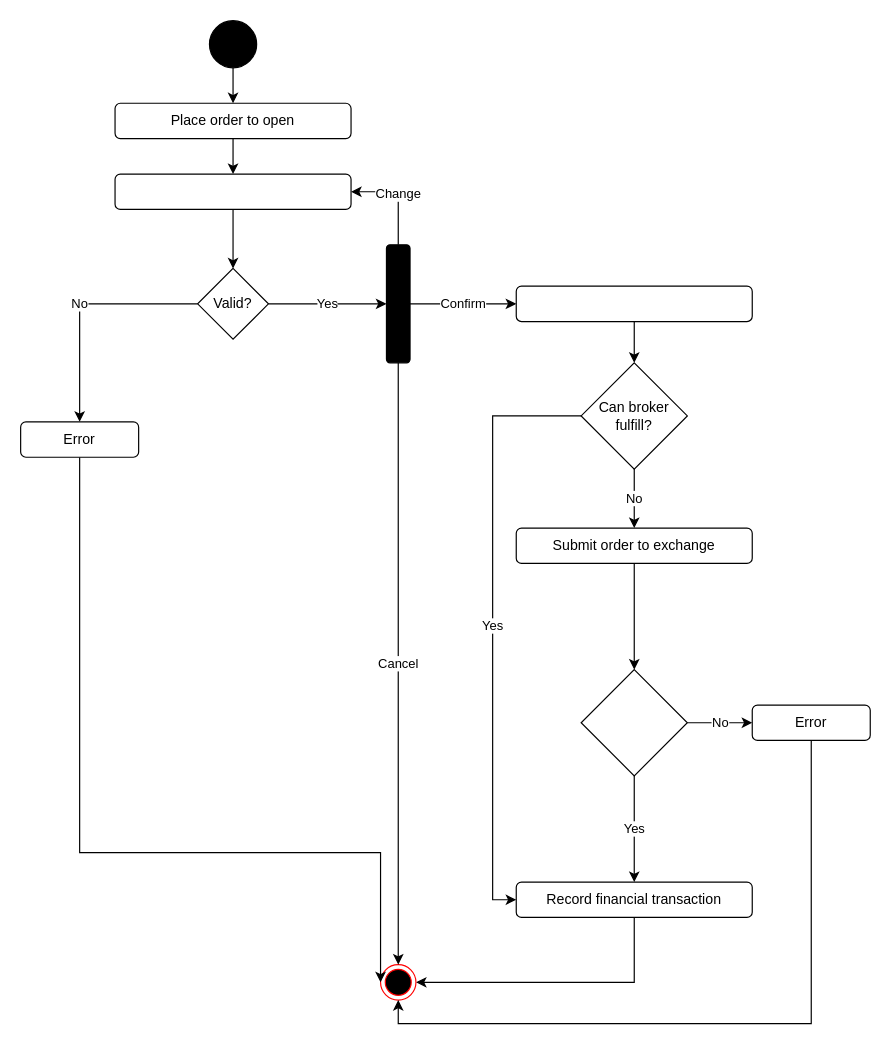
This 891x1054 diagram has some shape labels left out. Each missing label, with the centre of its shape:
Determine trade financial impact: [232,191]
Fulfillment Successful?: [633,722]
Submit order to broker: [633,303]
